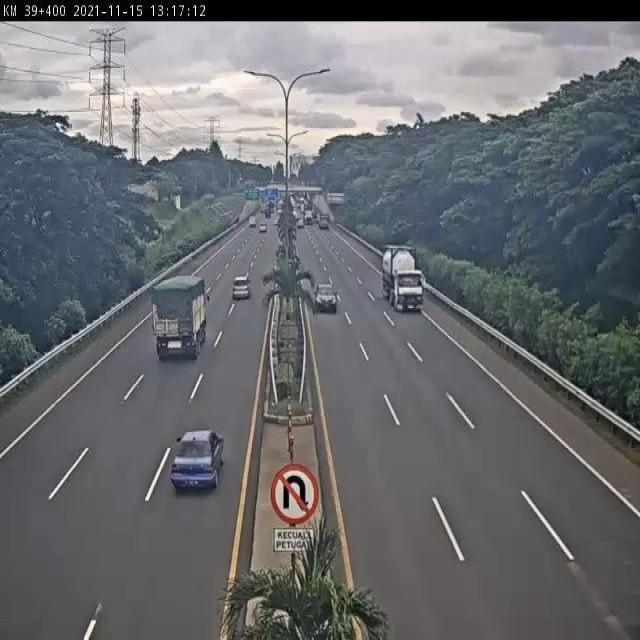car: (170, 427, 225, 492), (312, 280, 339, 315), (232, 274, 253, 302)
truck-l-: (151, 275, 208, 360)
truck-xl-: (382, 241, 426, 315)
